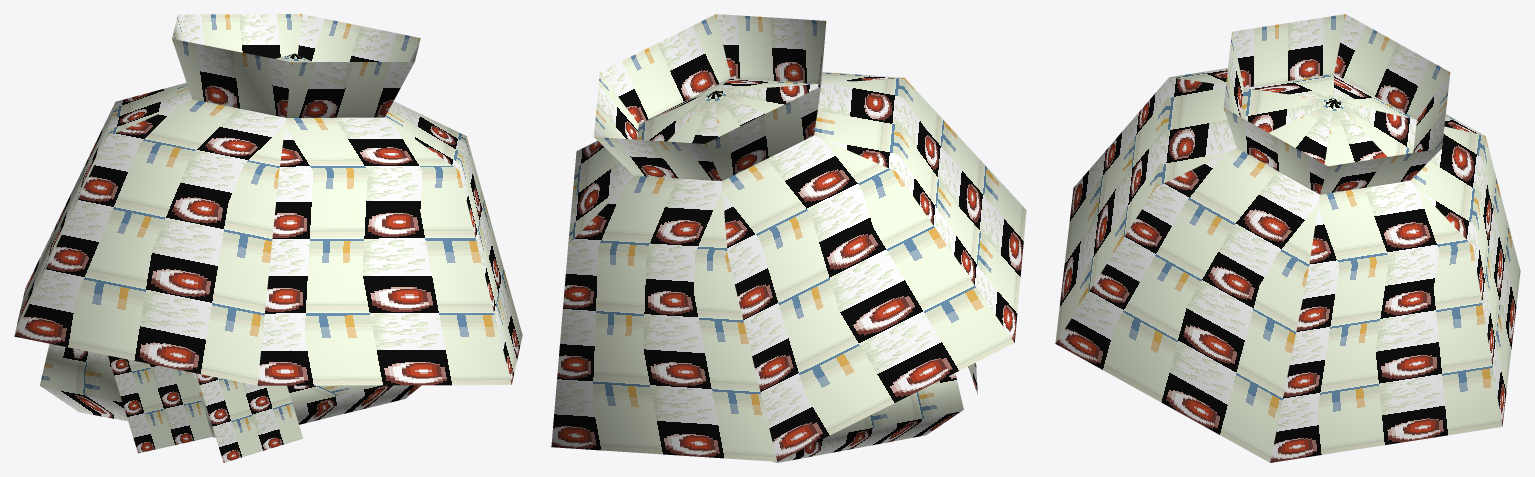
File: 5060musi70_e.gltf
The picture shows the model from 3 angles, left to right: view 1: azimuth 30°, elevation 25°; view 2: azimuth 150°, elevation 25°; view 3: azimuth 270°, elevation 25°; orthographic projection. The views are drawn at different scales.
Visible parts, largest first — view 1: 5060musi70_e; view 2: 5060musi70_e; view 3: 5060musi70_e.
Boxes of the visible parts, left/top/right/bottom form: 5060musi70_e: left=14, top=14, right=522, bottom=462; 5060musi70_e: left=551, top=14, right=1026, bottom=462; 5060musi70_e: left=1055, top=14, right=1520, bottom=462.
Bounding box in the file's own units: 0.2075 × 0.1489 × 0.1877.
1 material, 1 textured.
